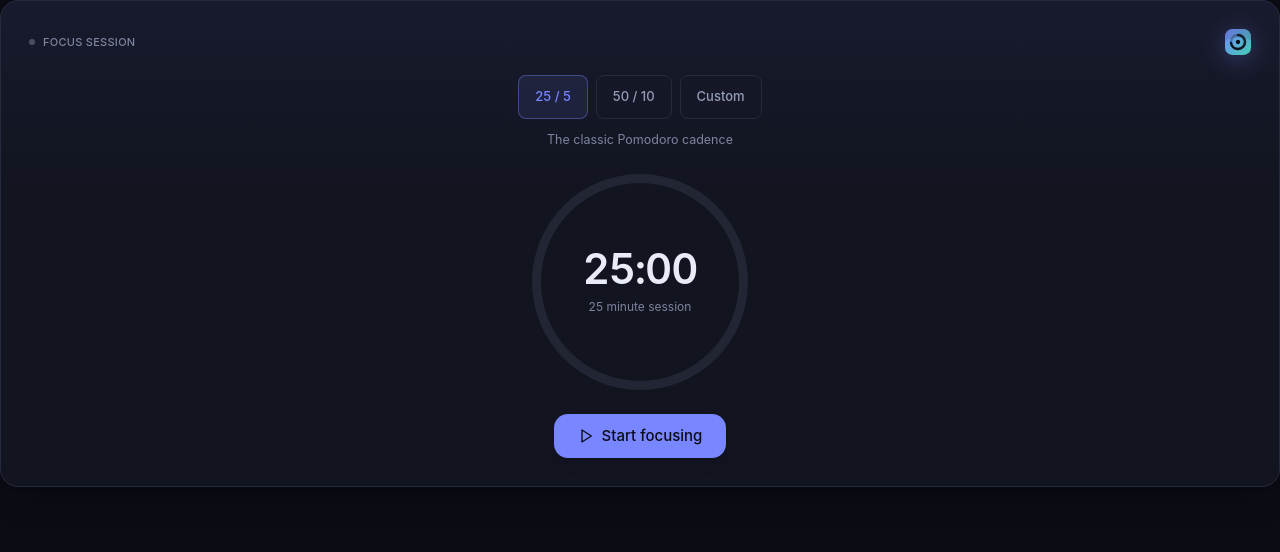
Test: QuickTimer › parks a finished session for the app to adopt
What coordinates should you click on to do the following:
click the button "50 / 10"
I would click on:
 (634, 97)
Its box is x1=596 y1=75 x2=672 y2=119.
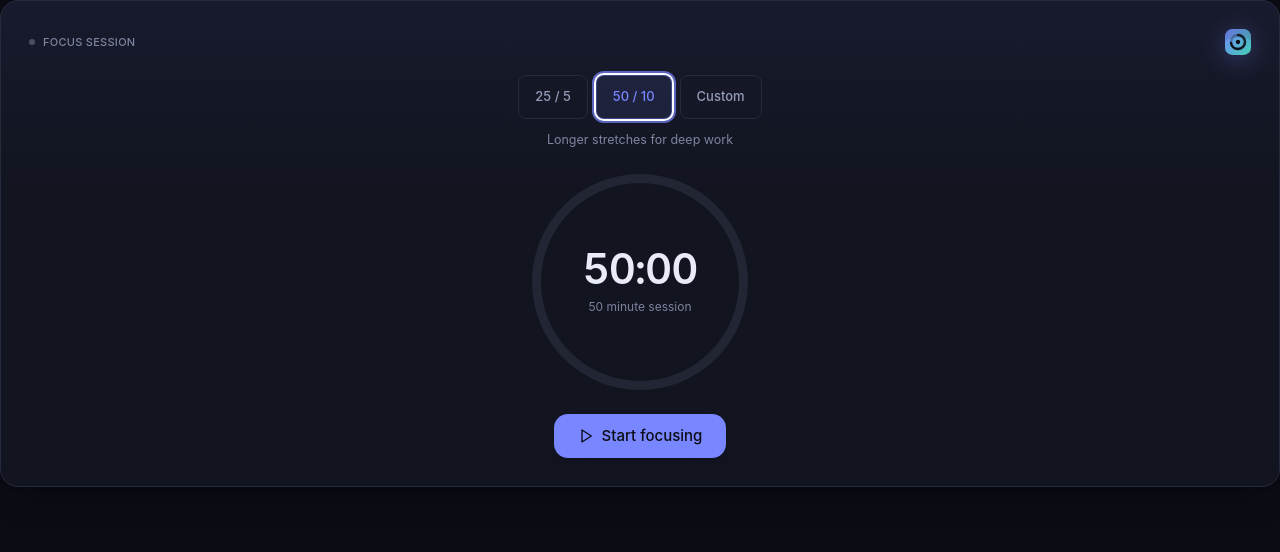
What coordinates should you click on to do the following:
click the button "Start focusing"
I would click on:
 (640, 436)
Its box is x1=554 y1=414 x2=726 y2=458.
Wait 300 ms
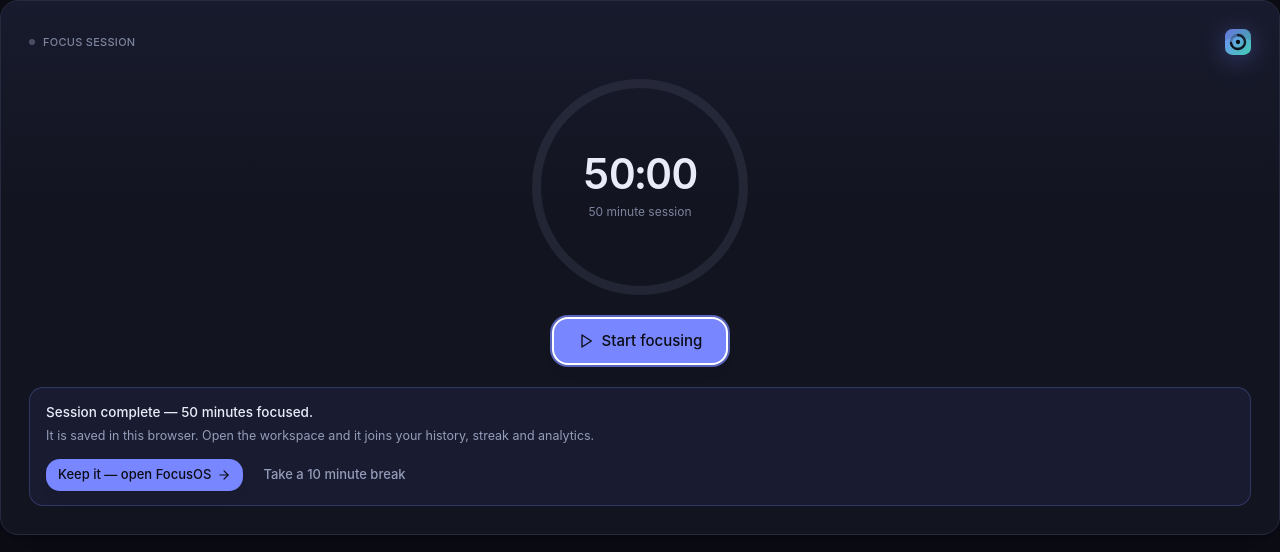
expect the text "Session complete — 50 minutes focused." is shown: met, box x1=46 y1=404 x2=313 y2=420
